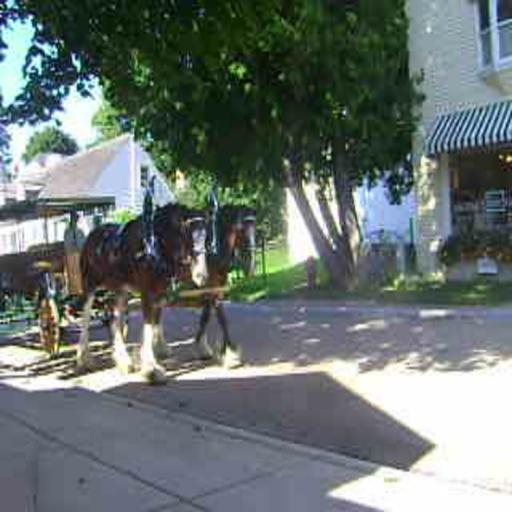horse: (70, 200, 206, 384), (172, 198, 258, 367)
